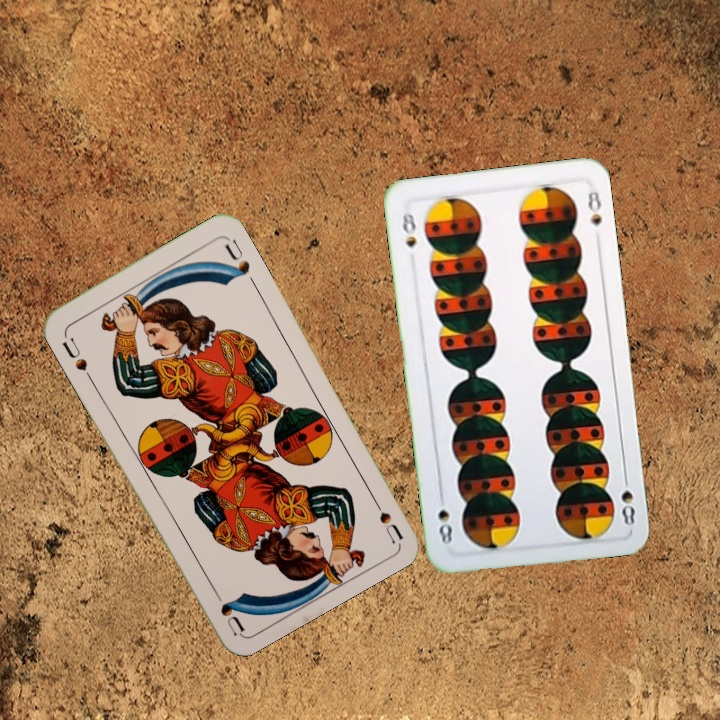S8: (617, 469, 638, 529), (398, 208, 419, 251)
SU: (365, 488, 404, 544), (58, 333, 95, 383)
